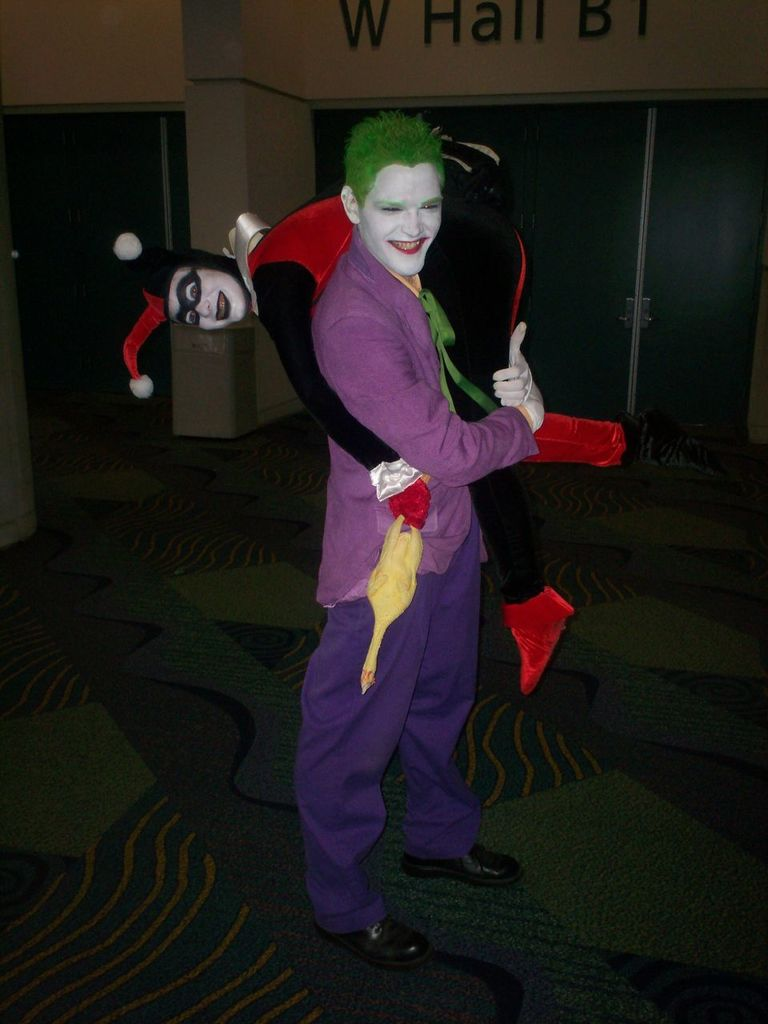Person: (112, 176, 727, 695), (294, 110, 544, 968)
